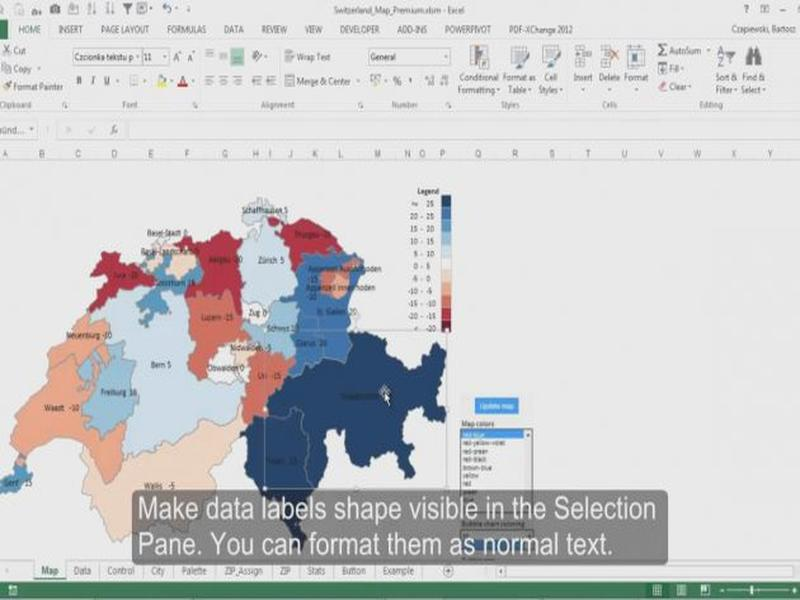legend: (407, 187, 454, 335)
